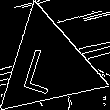L_N: (26, 37, 70, 94)
